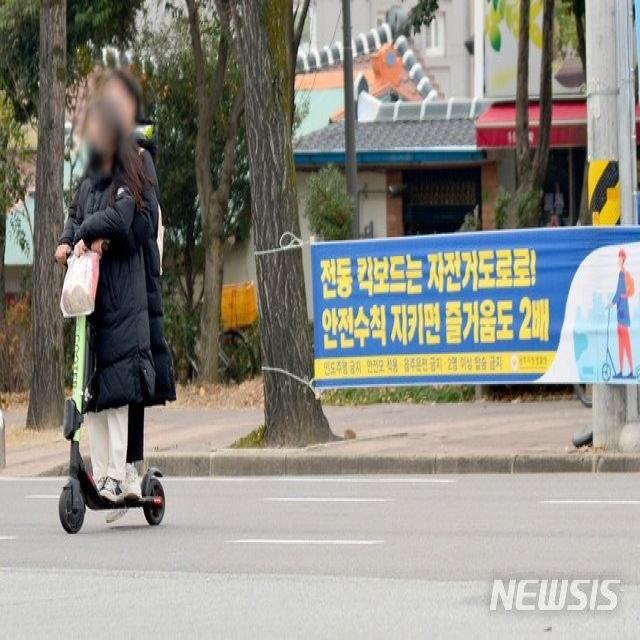non-helmet: (48, 62, 176, 538)
